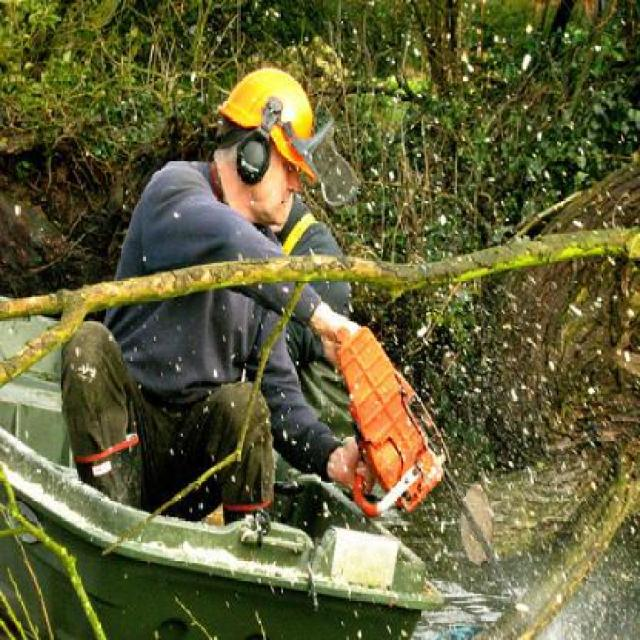Chainsaw: (333, 318, 527, 619)
